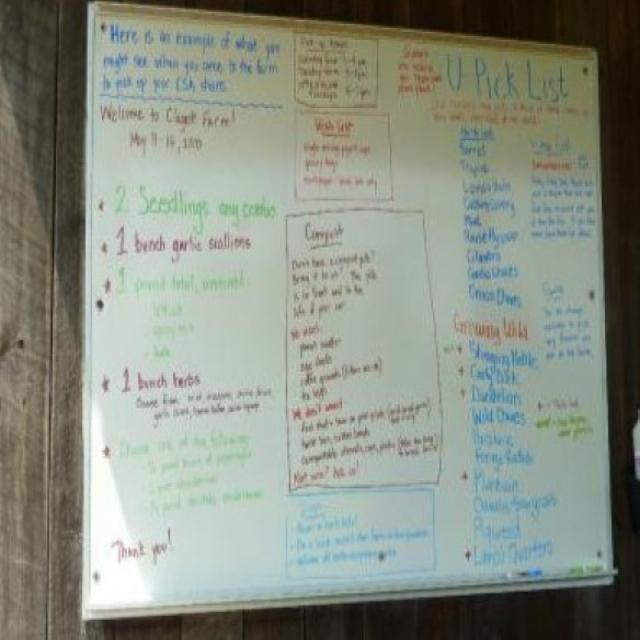White-board: (88, 4, 613, 610)
